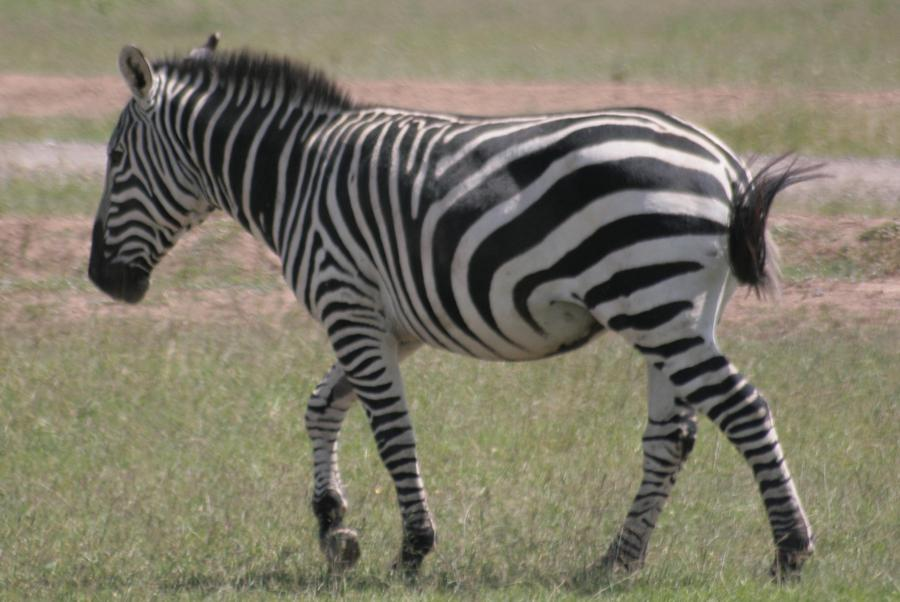zebra_plains: (278, 91, 719, 369)
